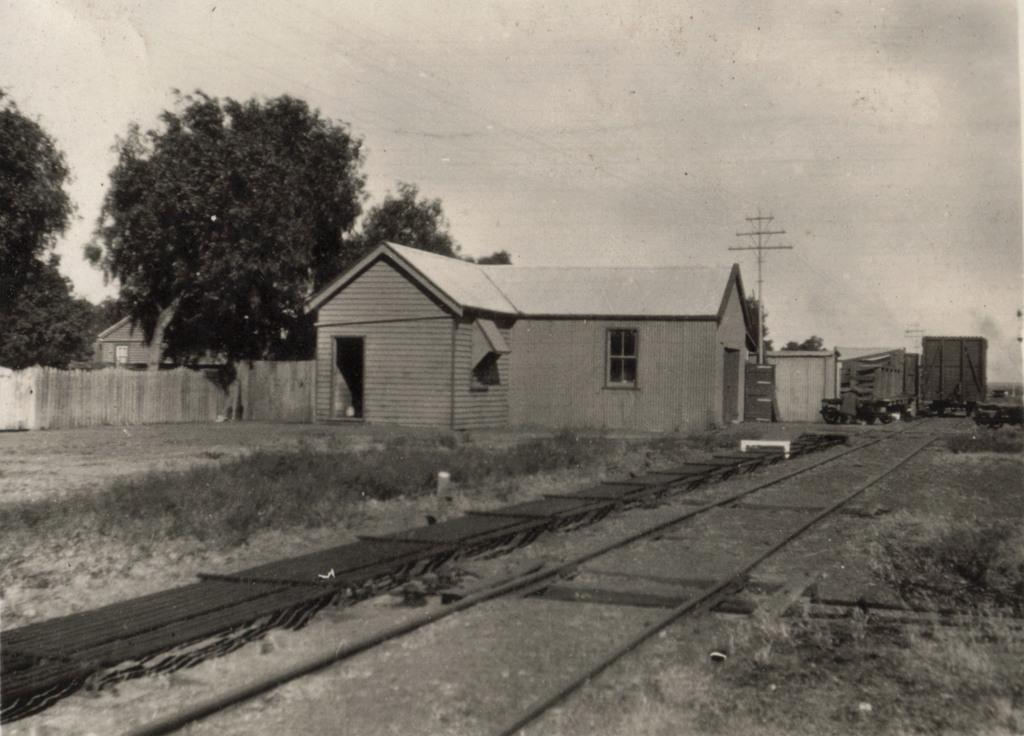train: (921, 334, 985, 409)
